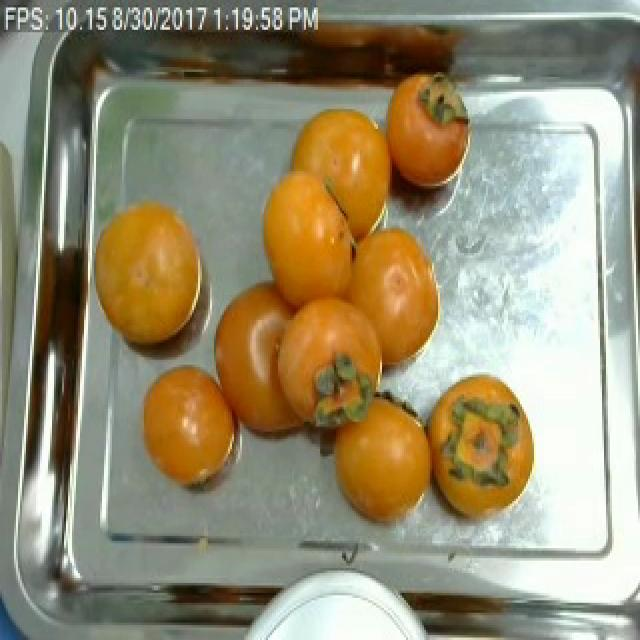Fruit: (202, 258, 352, 466), (298, 380, 448, 546), (90, 186, 214, 360), (336, 208, 448, 400), (278, 94, 402, 253), (130, 350, 252, 501), (424, 364, 542, 518)
